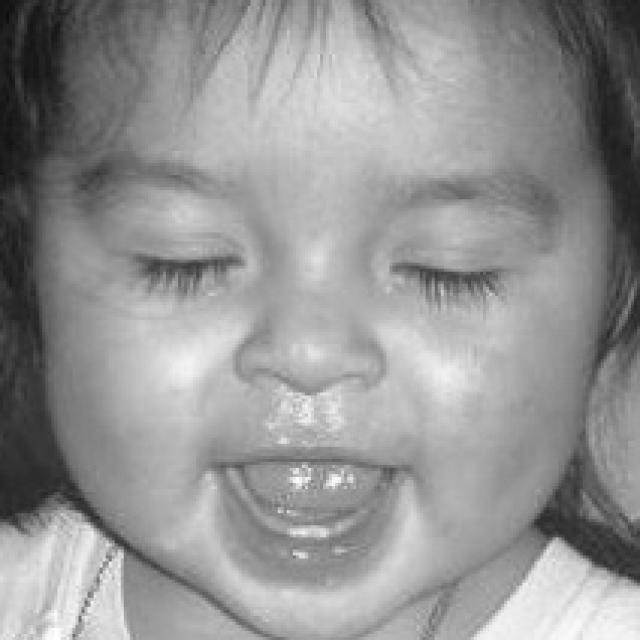real: (38, 0, 610, 636), (94, 204, 530, 332)
